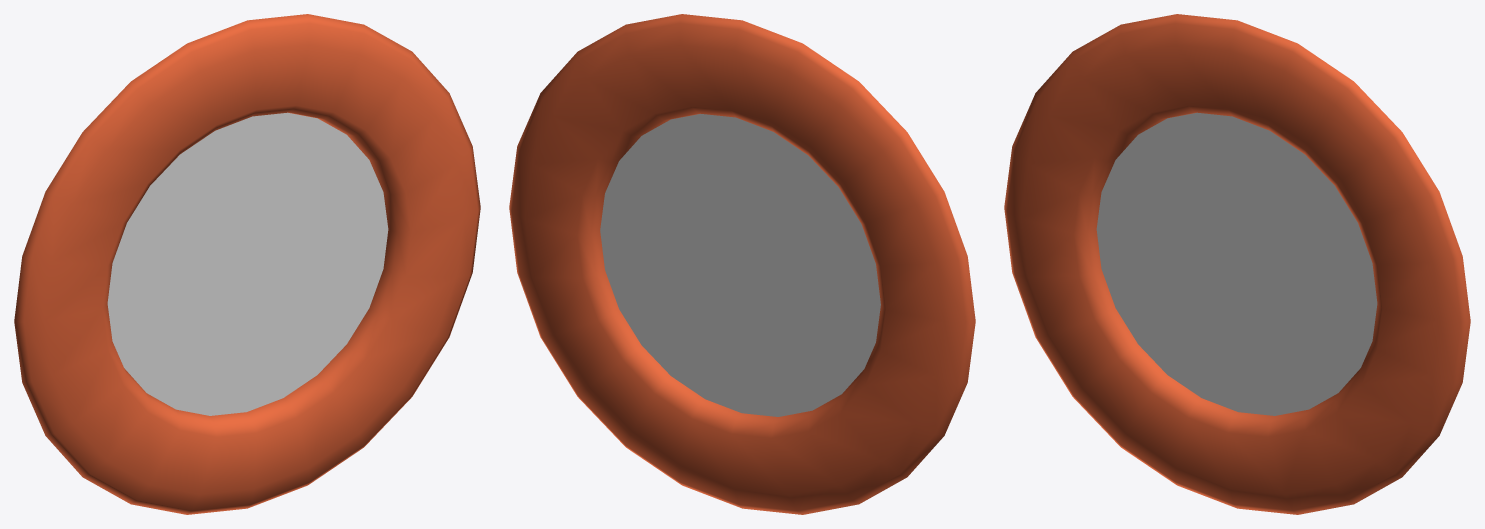
Rendered from Disktangible.fbx.
3 views of the same model, side by side, from view 1: azimuth 30°, elevation 25°; view 2: azimuth 150°, elevation 25°; view 3: azimuth 330°, elevation 25° (orthographic).
Parts seen in each view (by area): view 1: Disktangible, DisktangibleHole; view 2: Disktangible, DisktangibleHole; view 3: Disktangible, DisktangibleHole.
Part boxes in pixels (left/top/right/bottom): Disktangible: left=14, top=14, right=480, bottom=514; DisktangibleHole: left=107, top=112, right=388, bottom=415; Disktangible: left=509, top=14, right=975, bottom=514; DisktangibleHole: left=600, top=114, right=880, bottom=416; Disktangible: left=1004, top=14, right=1470, bottom=514; DisktangibleHole: left=1096, top=112, right=1377, bottom=415.
Bounding box in the file's own units: 40 × 40 × 3.
